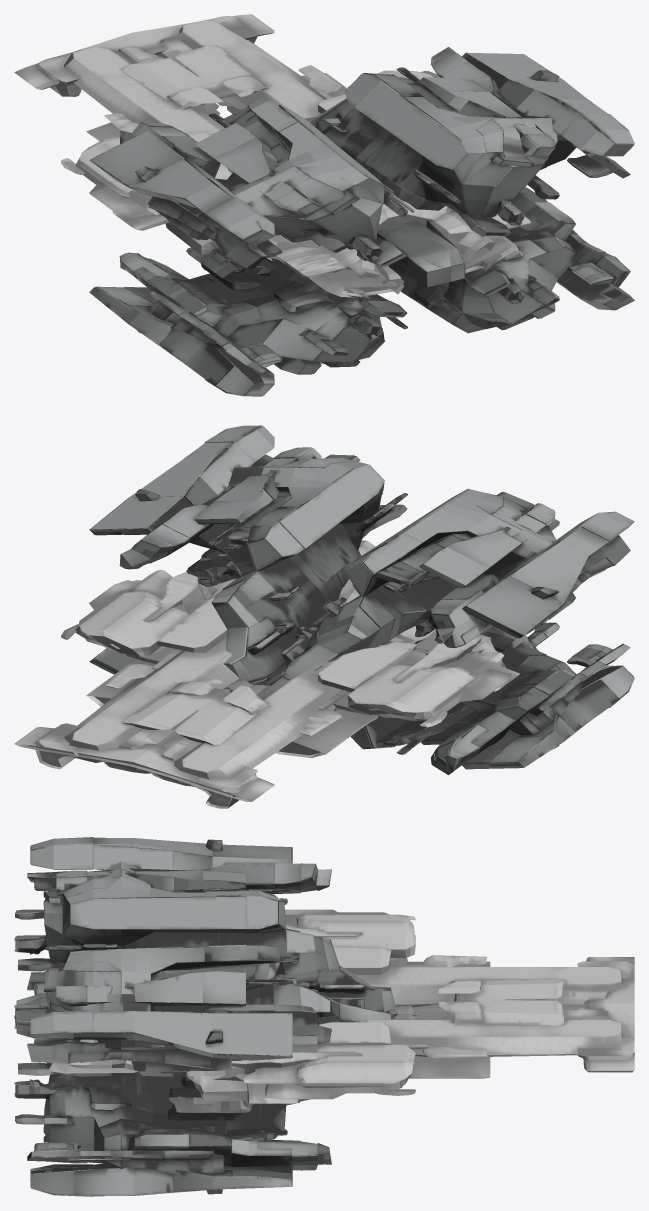
Rendered from Cruiser002.fbx.
3 renders of one model, top to bottom at view 1: azimuth 30°, elevation 25°; view 2: azimuth 150°, elevation 25°; view 3: azimuth 270°, elevation 25°, orthographic.
Parts seen in each view (by area): view 1: Cruiser002; view 2: Cruiser002; view 3: Cruiser002.
Boxes of the visible parts, x1=… form: Cruiser002: x1=14, y1=14, x2=634, y2=396; Cruiser002: x1=14, y1=425, x2=634, y2=808; Cruiser002: x1=14, y1=837, x2=634, y2=1196.
Bounding box in the file's own units: 47.14 × 20.23 × 58.88.
